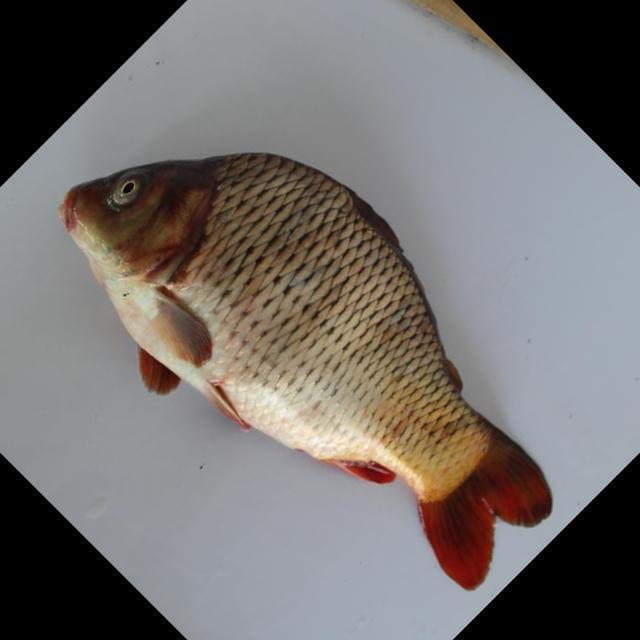CommonCarp: (57, 151, 584, 596)
